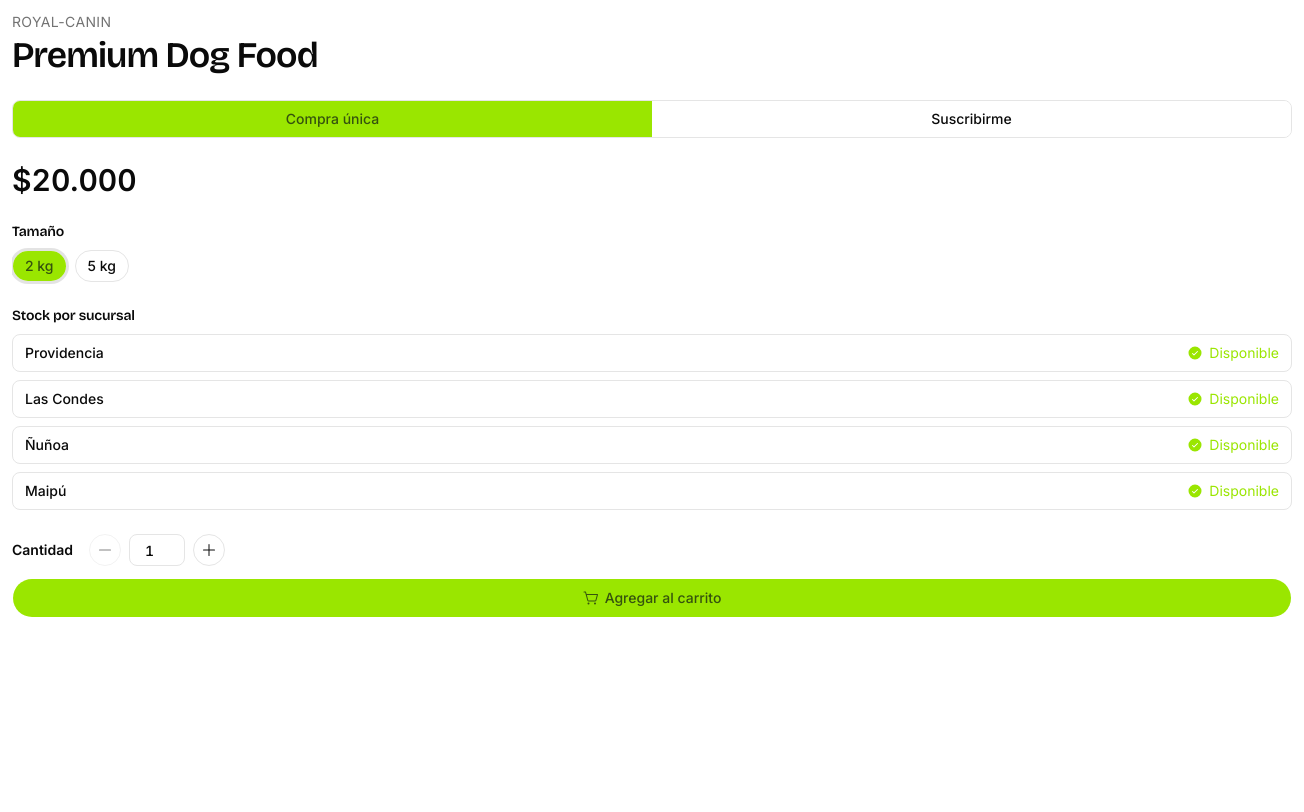
Test: ProductPurchasePanel — subscription toggle (T-25) › SP-S2: discounted price is shown when subscription option is selected
// Click "Suscribirme"
Click the button "Suscribirme": x=972, y=119 [652,101,1291,137]
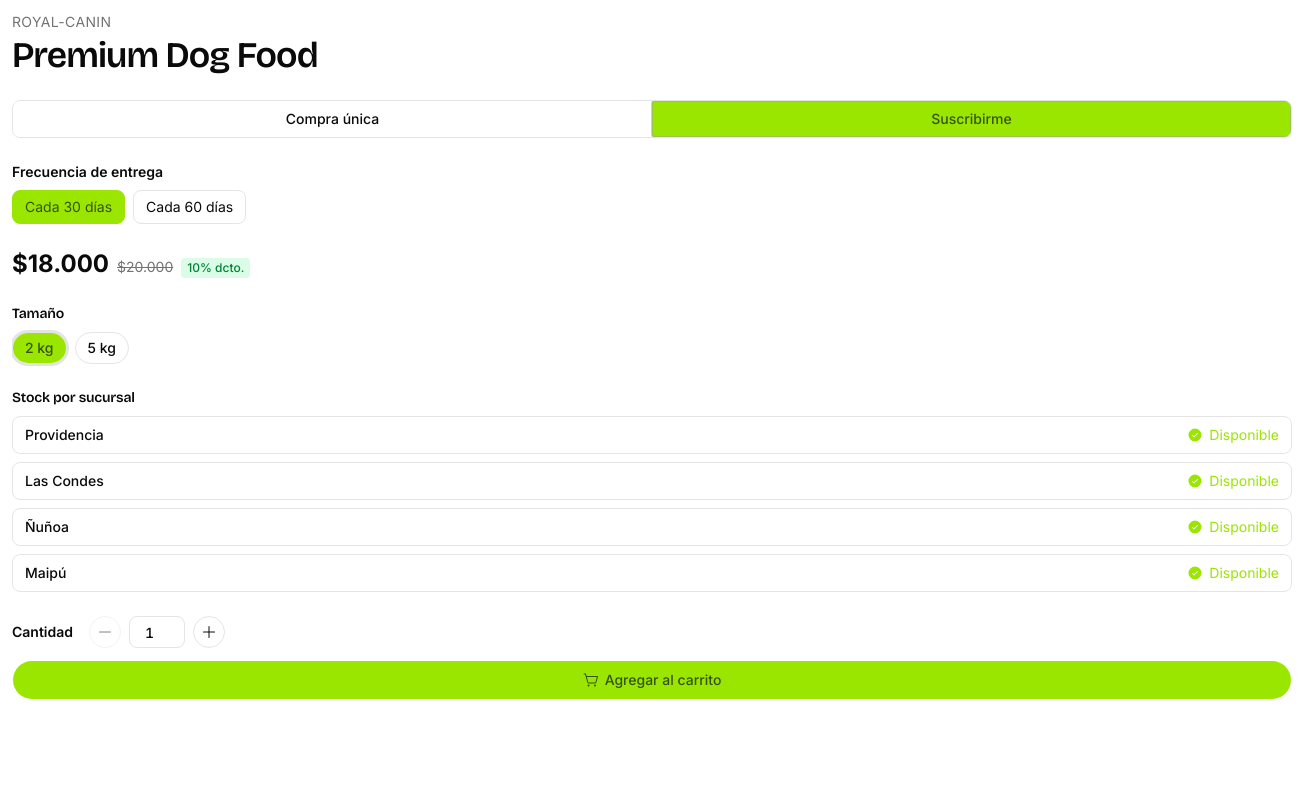
Check: the text "$18.000" is shown, box [12,248,109,280]
